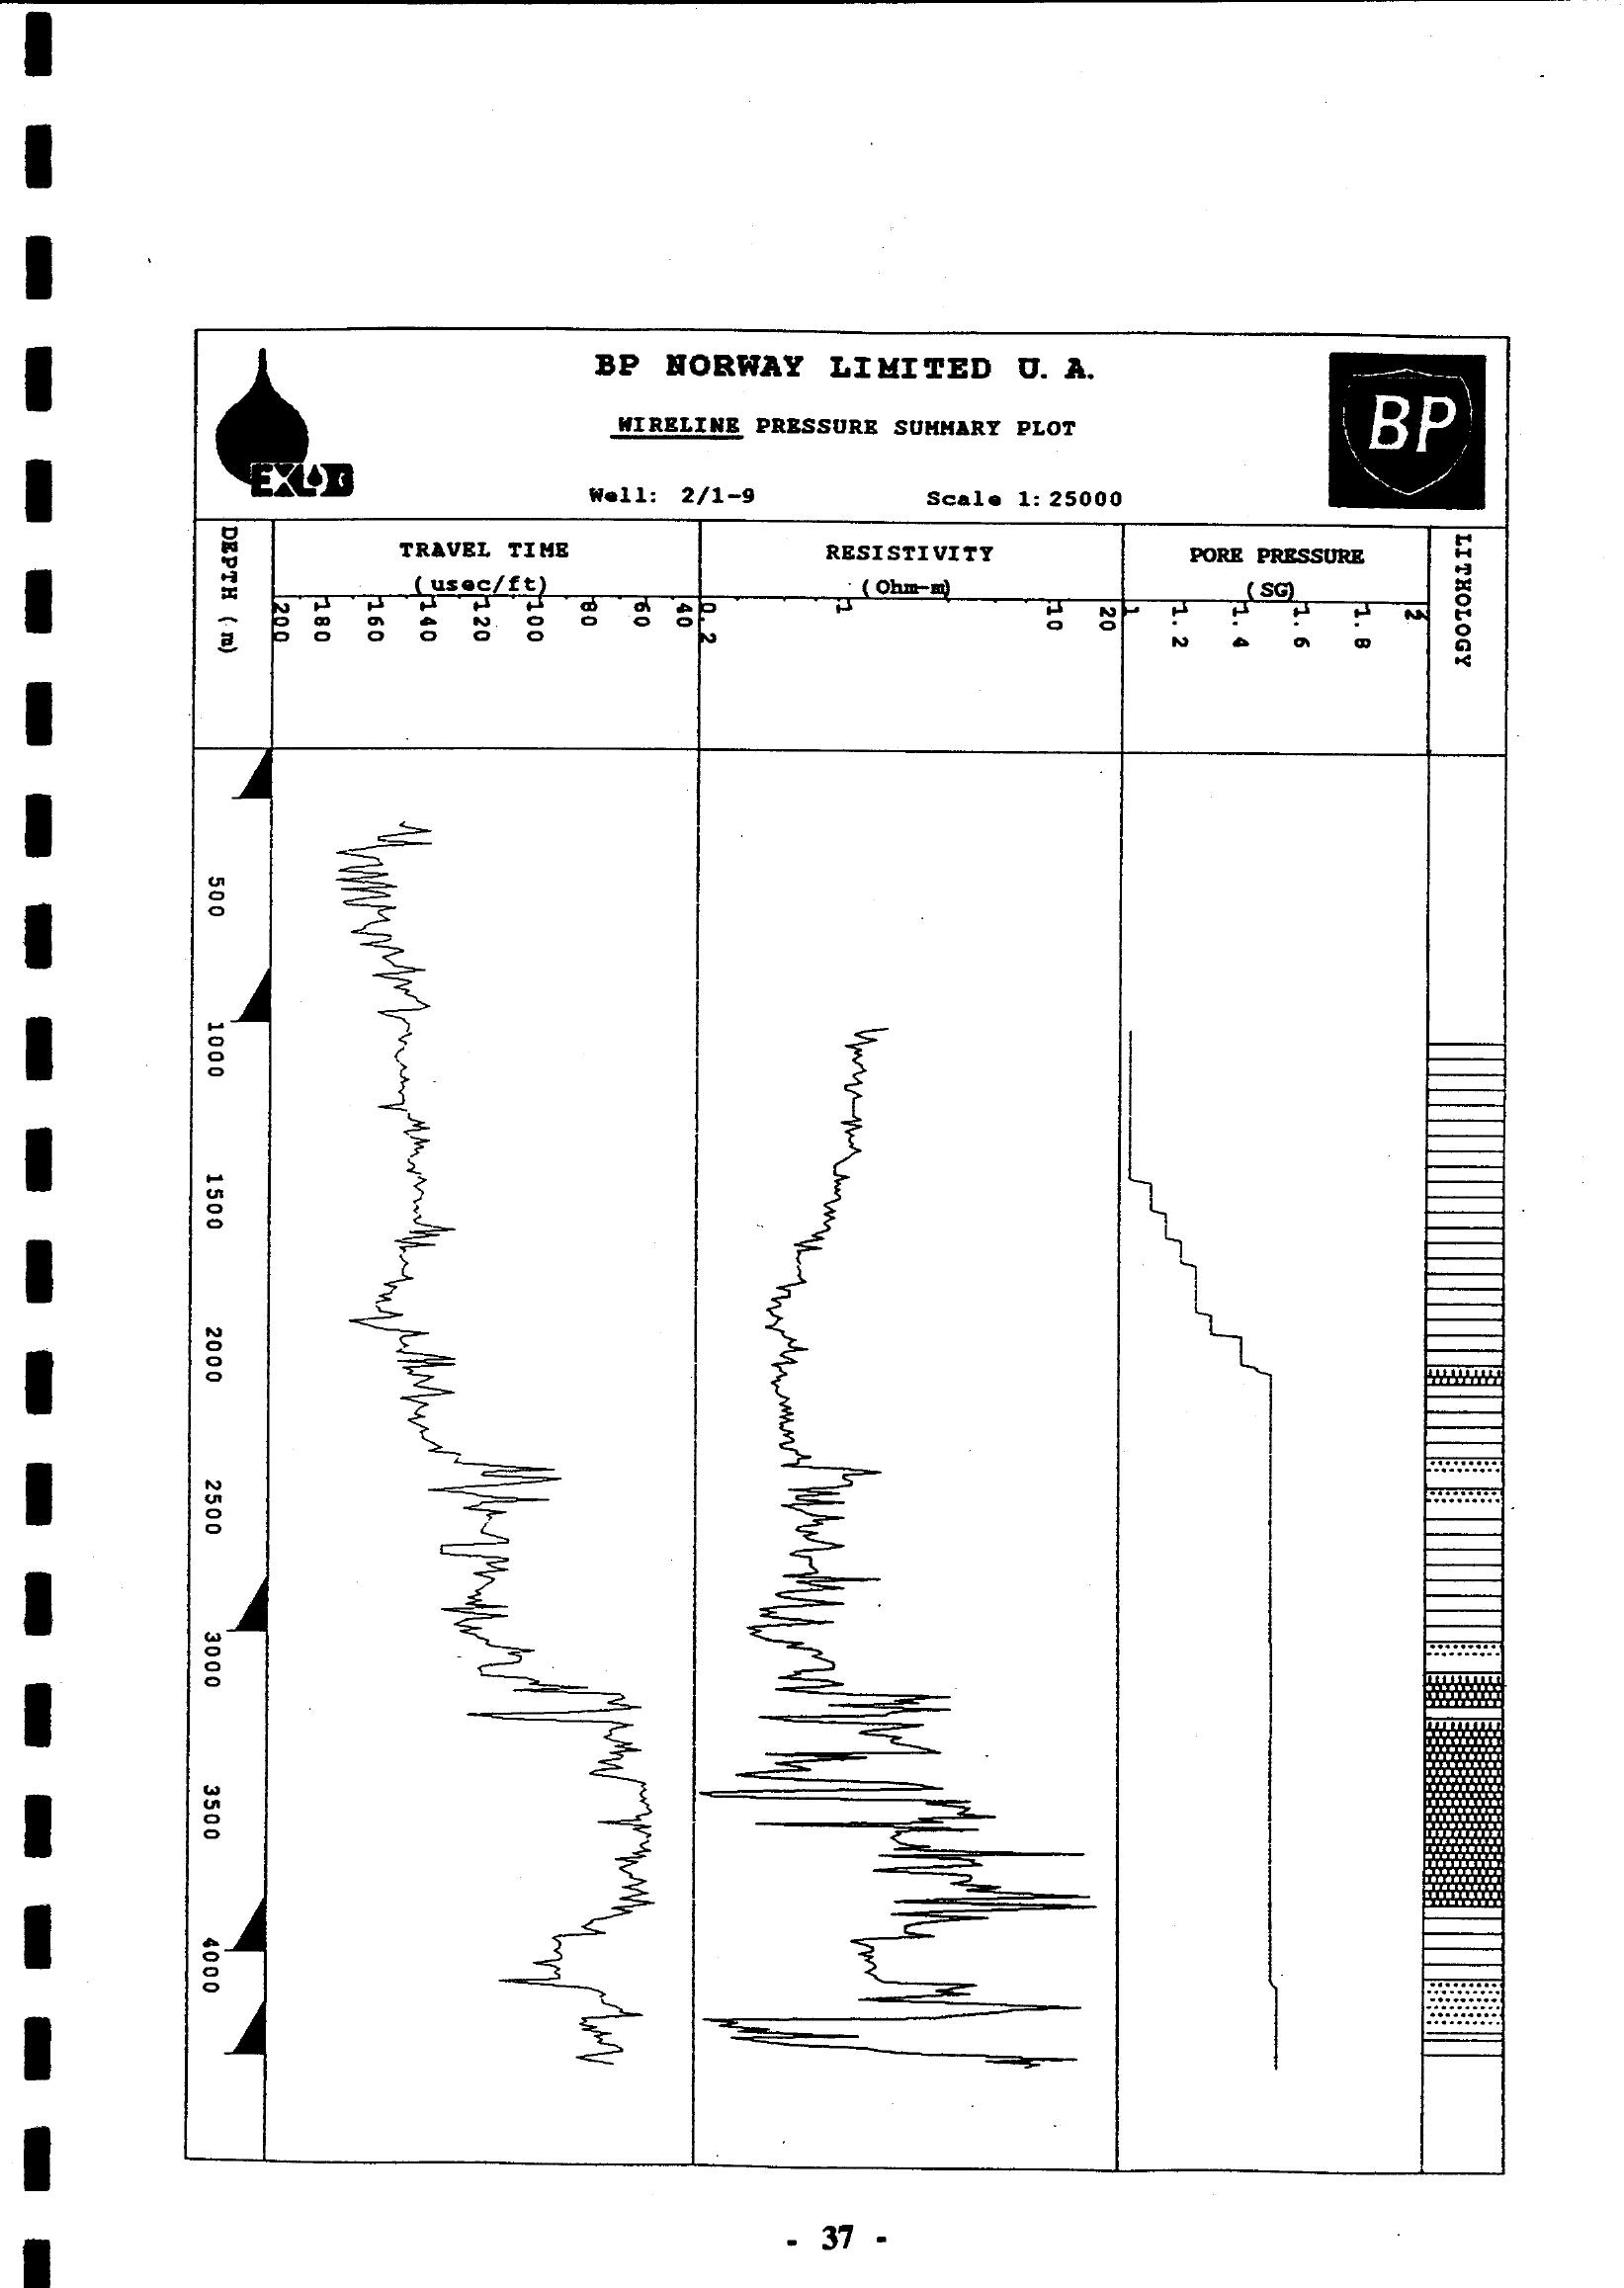graph: (132, 276, 1554, 2197)
